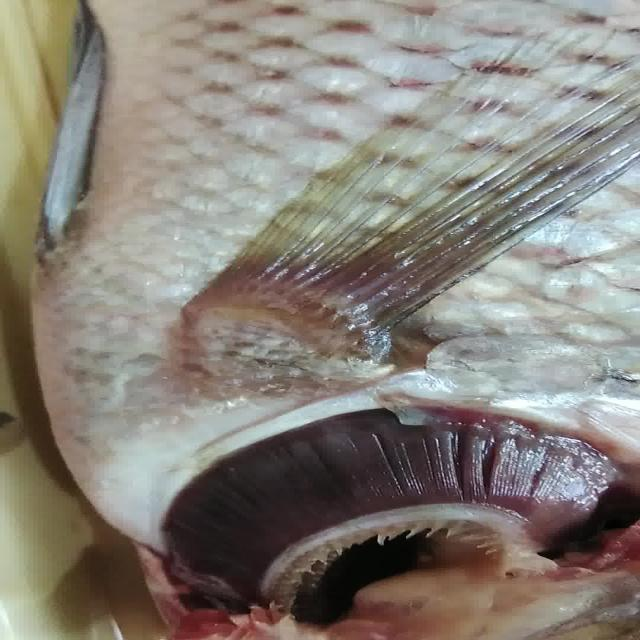Non-Fresh: (148, 420, 626, 608)
